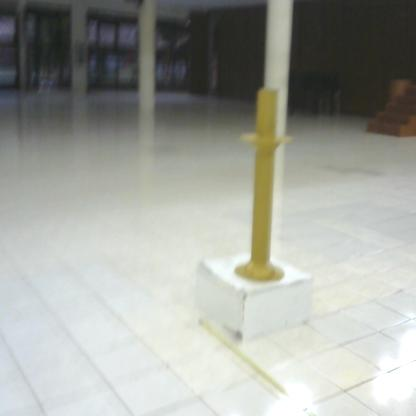pole: (233, 87, 299, 288)
